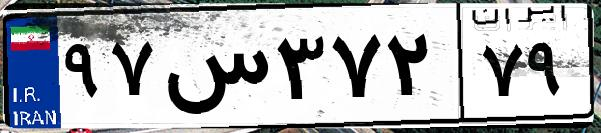2: (385, 28, 445, 110)
3: (270, 28, 330, 110)
7: (330, 28, 385, 110), (475, 38, 525, 113), (110, 28, 158, 98)
9: (57, 26, 110, 100), (525, 38, 570, 115)
س: (158, 20, 270, 120)
